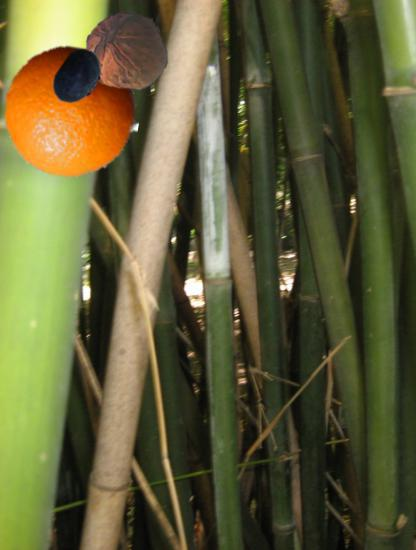Blueberry: (49, 48, 108, 107)
Orange: (3, 43, 141, 181)
Walnut: (85, 9, 170, 94)
